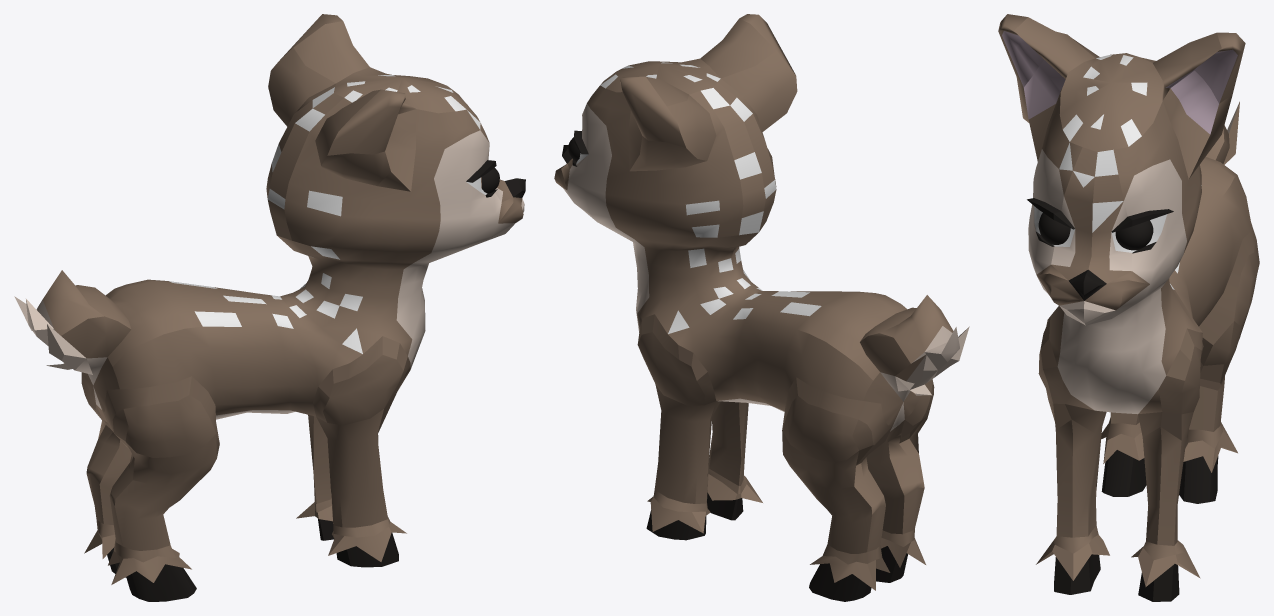
Rendered from Deer.fbx.
The picture shows the model from 3 angles, left to right: view 1: azimuth 30°, elevation 25°; view 2: azimuth 150°, elevation 25°; view 3: azimuth 270°, elevation 25°; orthographic projection. The views are drawn at different scales.
Parts seen in each view (by area): view 1: pCylinder2; view 2: pCylinder2; view 3: pCylinder2.
Boxes of the visible parts, bbox=[...] form: pCylinder2: bbox=[14, 14, 525, 601]; pCylinder2: bbox=[554, 14, 969, 601]; pCylinder2: bbox=[998, 14, 1259, 601].
Bounding box in the file's own units: 3.3 × 3.47 × 1.44.
